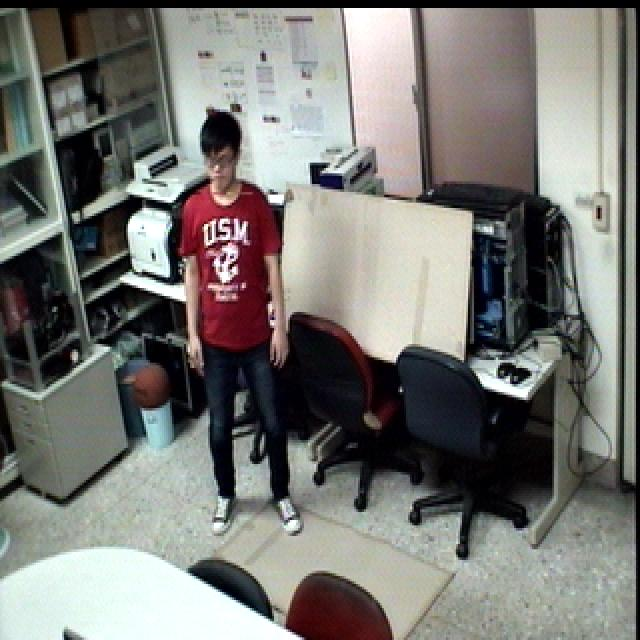stand: (178, 104, 310, 548)
